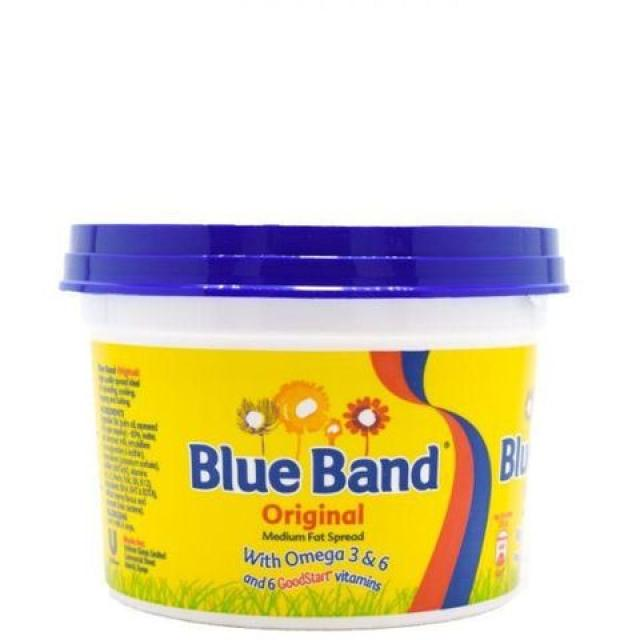butter: (58, 221, 570, 631)
